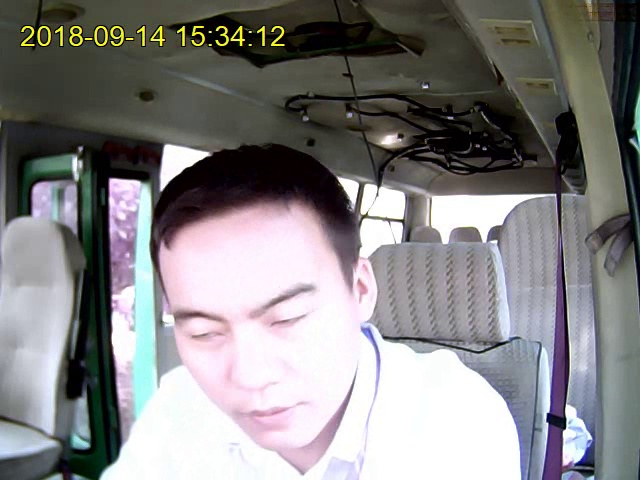closed_mouth: (235, 401, 303, 427)
